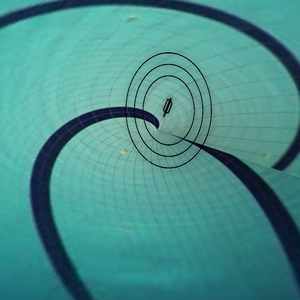circle: (107, 39, 225, 183)
submarine: (159, 94, 180, 123)
